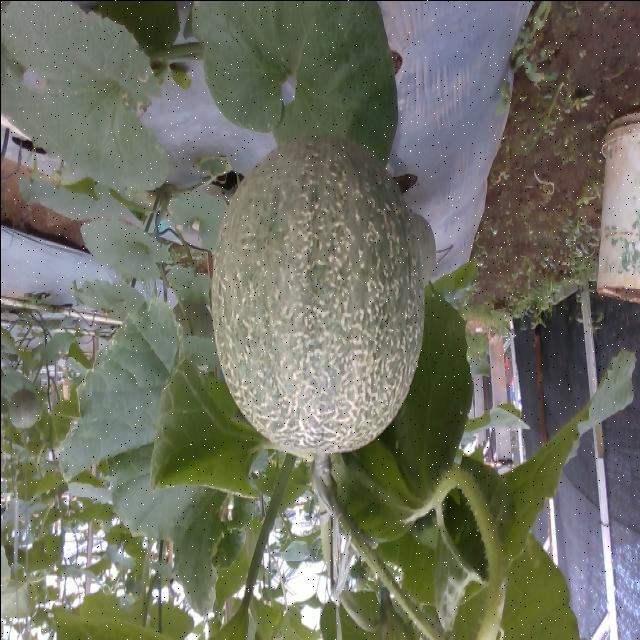melon: (210, 135, 423, 453)
